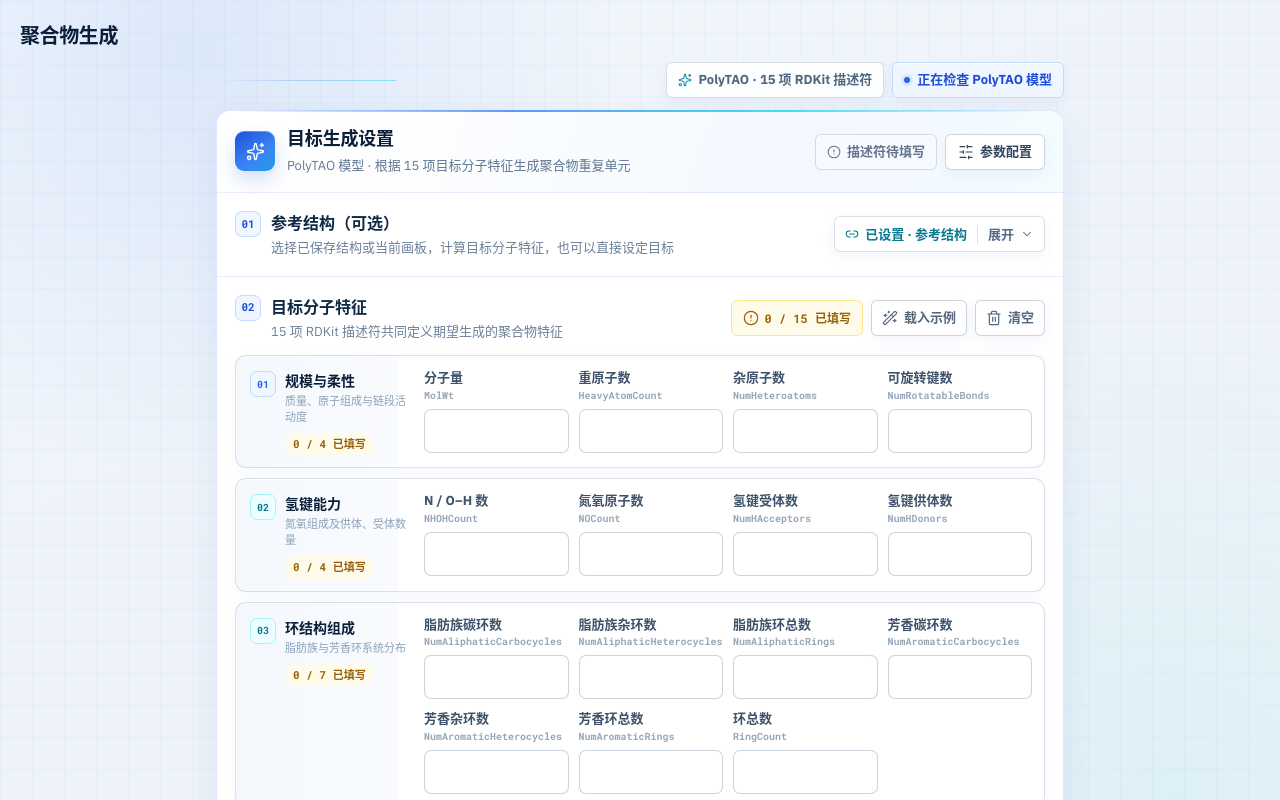
Test: PolytaoGenerationPage › loads and clears the sample vector while updating completion and source states
Click the button "载入示例". click: (919, 318)
box: x1=871 y1=300 x2=967 y2=336
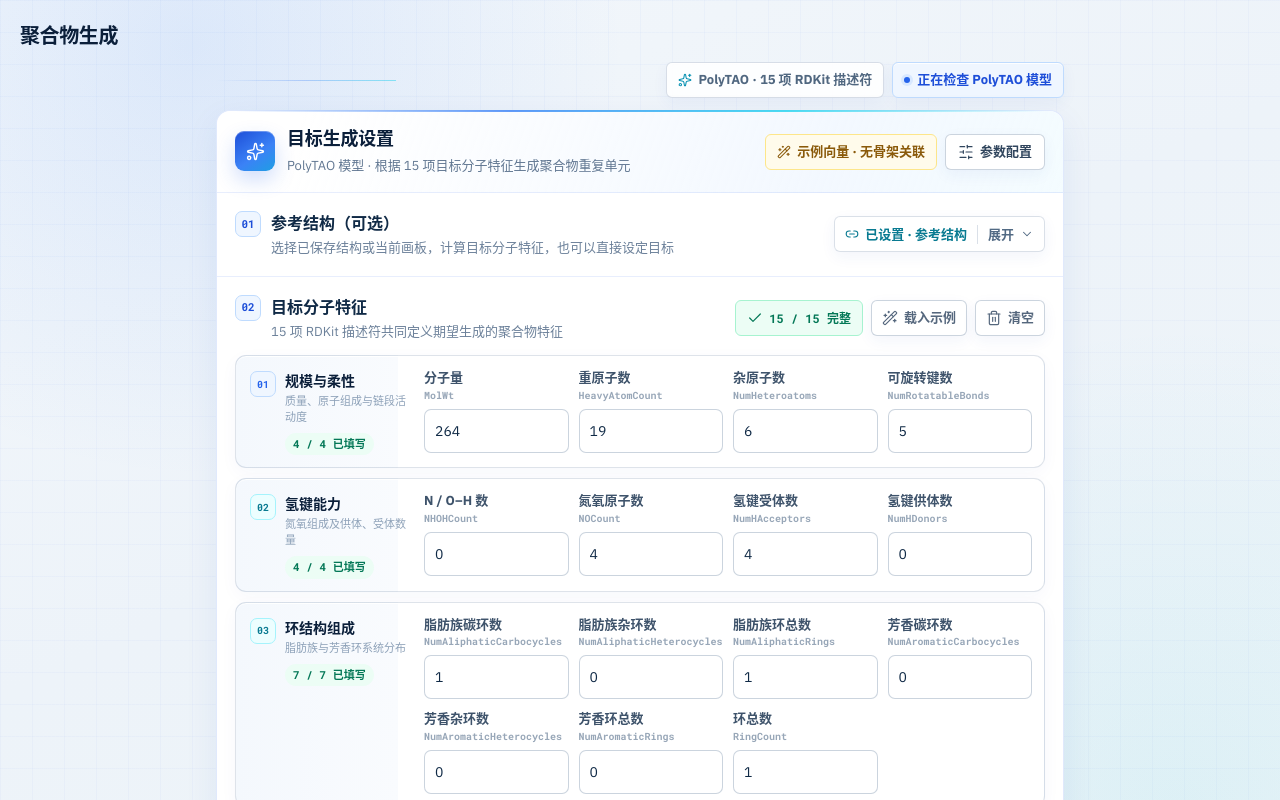
Check: the text "15 / 15 完整" is shown, box x1=769 y1=309 x2=851 y2=327
Check: the text "示例向量 · 无骨架关联" is shown, box x1=797 y1=142 x2=925 y2=161
Check: the number field labelled "分子量 MolWt" holds "264", box x1=424 y1=408 x2=568 y2=452
Click the button "清空". click: (1010, 318)
box: x1=975 y1=300 x2=1045 y2=336
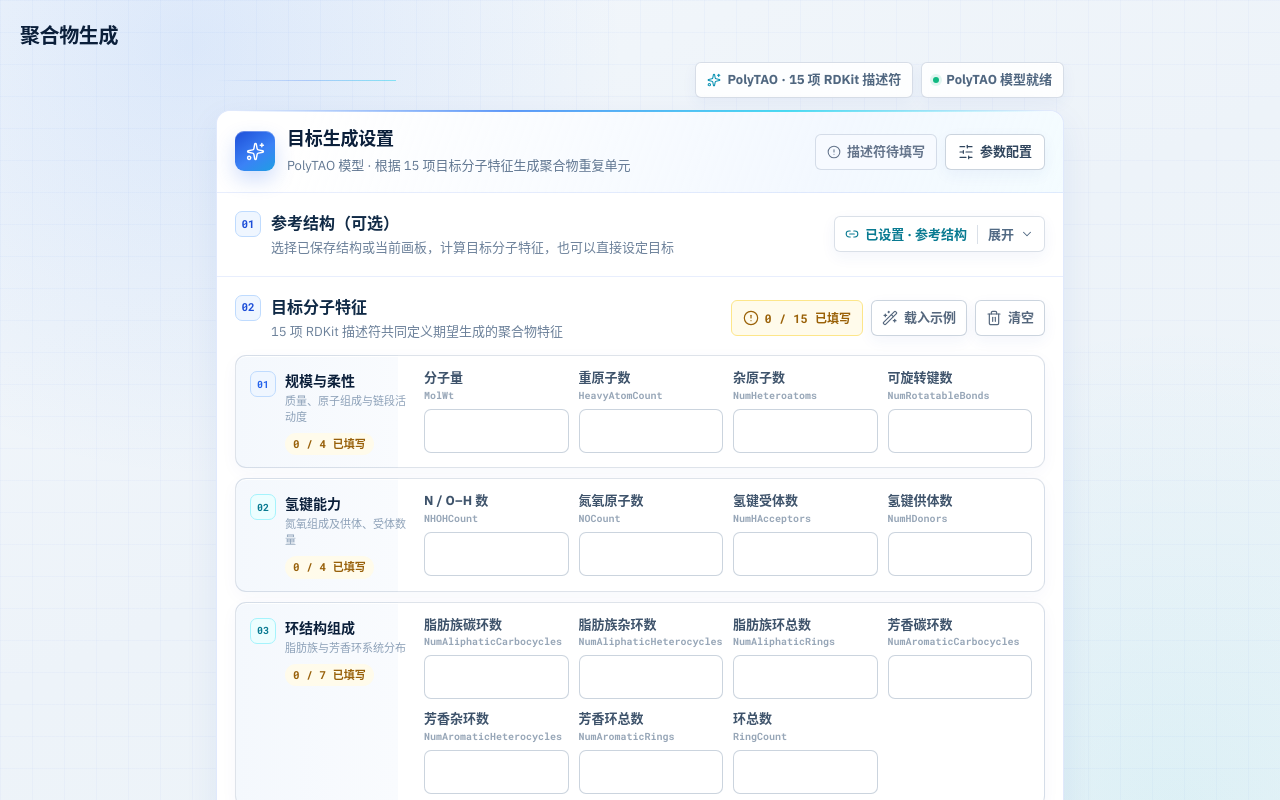
Check: the text "0 / 15 已填写" is shown, box x1=764 y1=309 x2=851 y2=327
Check: the text "描述符待填写" is shown, box x1=847 y1=142 x2=925 y2=161
